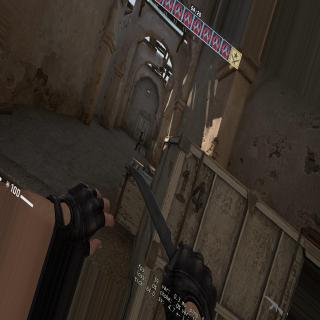CT-Body: (134, 128, 144, 156)
CT-Head: (140, 130, 144, 135)
